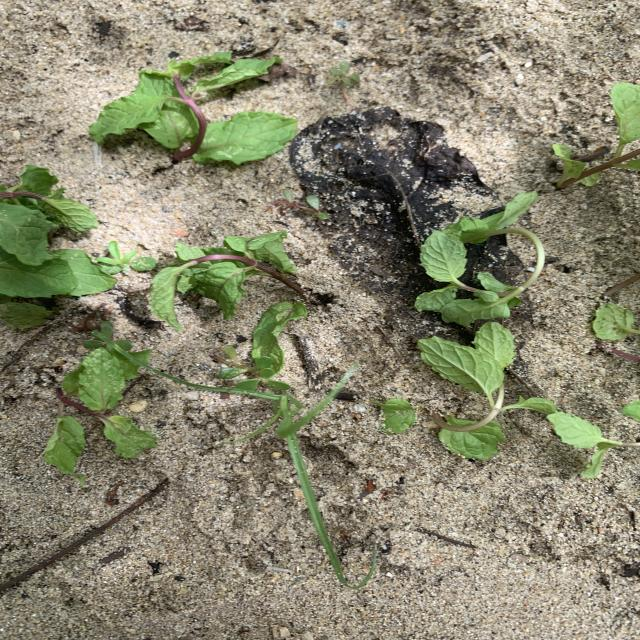crop: (89, 54, 296, 163), (150, 232, 307, 362), (420, 323, 561, 459), (0, 166, 113, 327), (415, 192, 542, 325), (45, 344, 155, 469), (553, 83, 639, 187), (547, 412, 640, 478), (593, 303, 640, 342), (372, 399, 416, 433), (623, 400, 640, 422)
weed: (118, 349, 354, 584), (211, 346, 289, 391), (94, 241, 156, 273), (268, 188, 329, 219), (348, 543, 375, 587), (83, 321, 114, 347), (327, 62, 359, 87)
